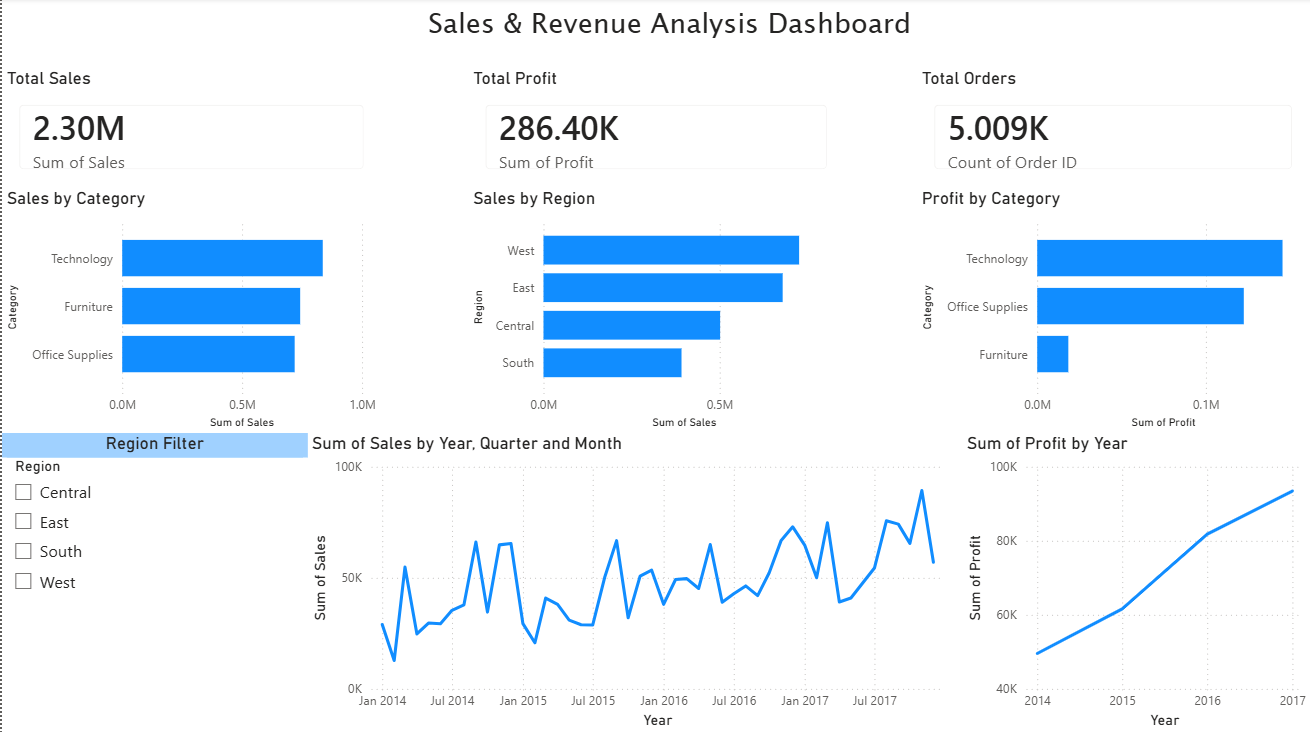

Layout of this report page (visuals, bound fields, positions):
{"tool":"powerbi","page":{"name":"Page 1","canvas":[1280,720],"ordinal":0},"visuals":[{"type":"cardVisual","title":"Total Sales","fields":{"Data":["Sum(Sample - Superstore.Sales)"]},"box":[0,68.6,371.4,117.1],"z":0},{"type":"cardVisual","title":"Total Profit","fields":{"Data":["Sum(Sample - Superstore.Profit)"]},"box":[455.7,68.6,368.6,117.1],"z":1000},{"type":"clusteredBarChart","title":"Sales by Category","fields":{"Category":["Sample - Superstore.Category"],"Y":["Sum(Sample - Superstore.Sales)"]},"box":[0,185.7,371.4,240],"z":2000},{"type":"clusteredBarChart","title":"Profit by Category","fields":{"Category":["Sample - Superstore.Category"],"Y":["Sum(Sample - Superstore.Profit)"]},"box":[895.7,185.7,384.3,240],"z":3000},{"type":"clusteredBarChart","title":"Sales by Region","fields":{"Category":["Sample - Superstore.Region"],"Y":["Sum(Sample - Superstore.Sales)"]},"box":[455.7,185.7,368.6,240],"z":4000},{"type":"lineChart","fields":{"Y":["Sum(Sample - Superstore.Sales)"],"Category":["Sample - Superstore.Order Date.Variation.Date Hierarchy.Year","Sample - Superstore.Order Date.Variation.Date Hierarchy.Quarter","Sample - Superstore.Order Date.Variation.Date Hierarchy.Month"]},"box":[298.6,425.7,640,294.3],"z":5000},{"type":"cardVisual","title":"Total Orders","fields":{"Data":["Count(Sample - Superstore.Order ID)"]},"box":[895.7,68.6,384.3,117.1],"z":6000},{"type":"textbox","box":[298.6,0,684.3,68.6],"z":7000},{"type":"slicer","title":"Region Filter","fields":{"Values":["Sample - Superstore.Region"]},"box":[0,426,299,294],"z":8000},{"type":"lineChart","fields":{"Category":["Sample - Superstore.Order Date.Variation.Date Hierarchy.Year"],"Y":["Sum(Sample - Superstore.Profit)"]},"box":[938.6,425.7,341.4,294.3],"z":9000}]}

Visuals, with their boxes in screenshot pixels (x1, y1, x2, y2), scaled from the page's 1280x720 canvas onto the 1310x732 screenshot:
"Total Sales" cardVisual: (left=0, top=70, right=380, bottom=189)
"Total Profit" cardVisual: (left=466, top=70, right=844, bottom=189)
"Sales by Category" clusteredBarChart: (left=0, top=189, right=380, bottom=433)
"Profit by Category" clusteredBarChart: (left=917, top=189, right=1309, bottom=433)
"Sales by Region" clusteredBarChart: (left=466, top=189, right=844, bottom=433)
lineChart - Sum(Sample - Superstore.Sales) x Sample - Superstore.Order Date.Variation.Date Hierarchy.Year: (left=306, top=433, right=961, bottom=731)
"Total Orders" cardVisual: (left=917, top=70, right=1309, bottom=189)
textbox: (left=306, top=0, right=1006, bottom=70)
"Region Filter" slicer: (left=0, top=433, right=306, bottom=731)
lineChart - Sample - Superstore.Order Date.Variation.Date Hierarchy.Year x Sum(Sample - Superstore.Profit): (left=961, top=433, right=1309, bottom=731)
